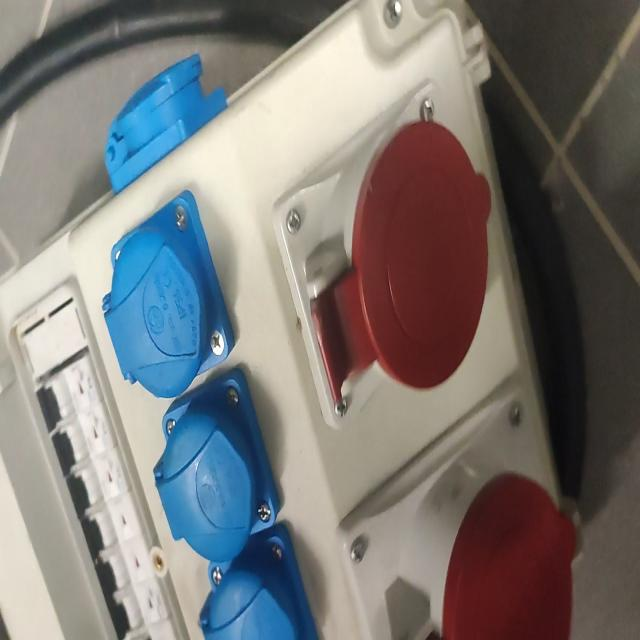400v socket: (270, 80, 493, 430), (336, 384, 576, 640)
house plug covered: (106, 189, 236, 398), (153, 373, 281, 564), (105, 56, 226, 190), (200, 523, 320, 640)
